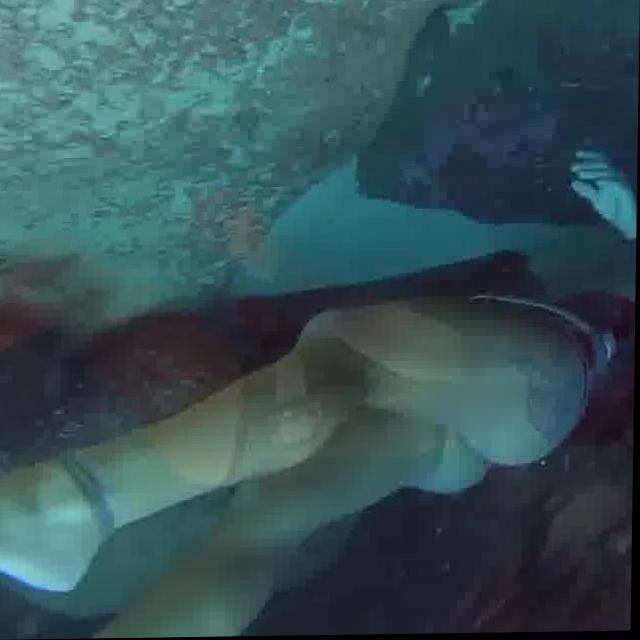human: (0, 262, 637, 640)
